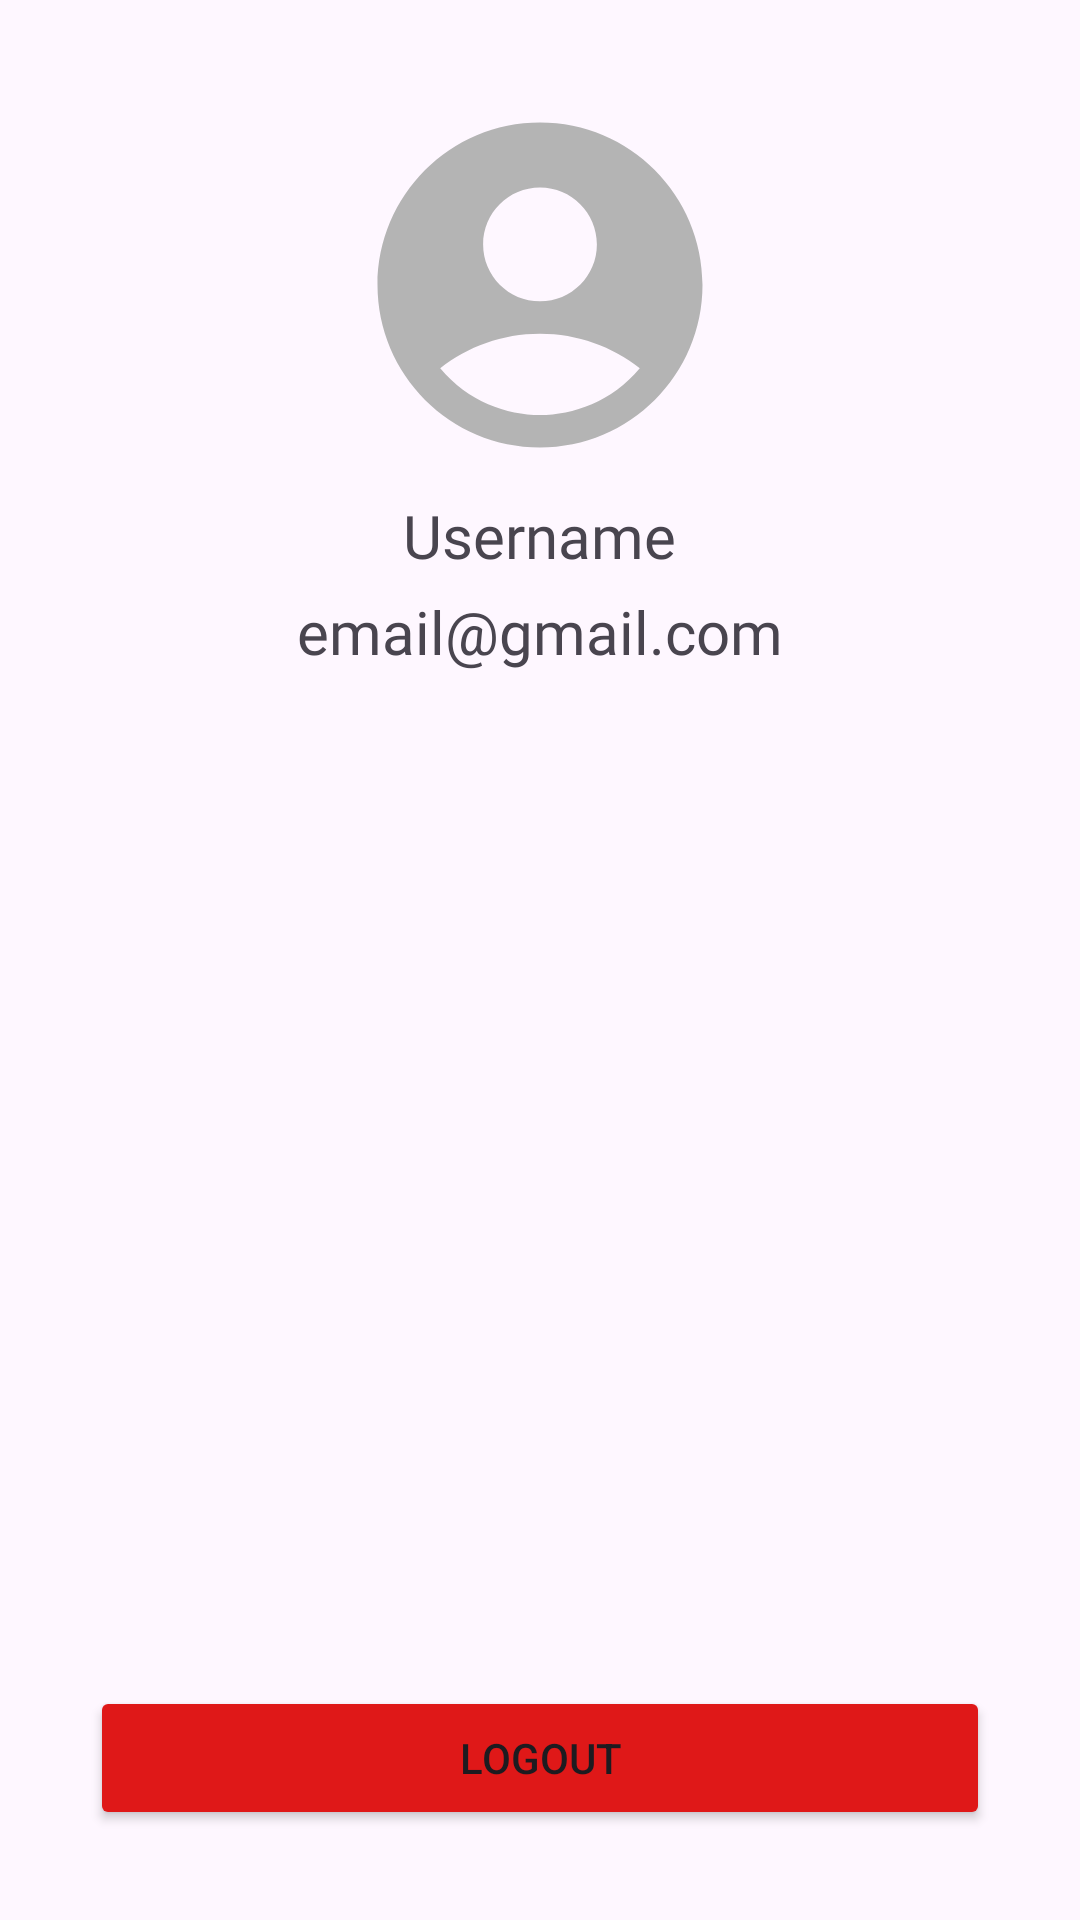

Icon click points for this 1080 x 1920 phone screenshot, format point (x, y):
account: point (540, 285)
